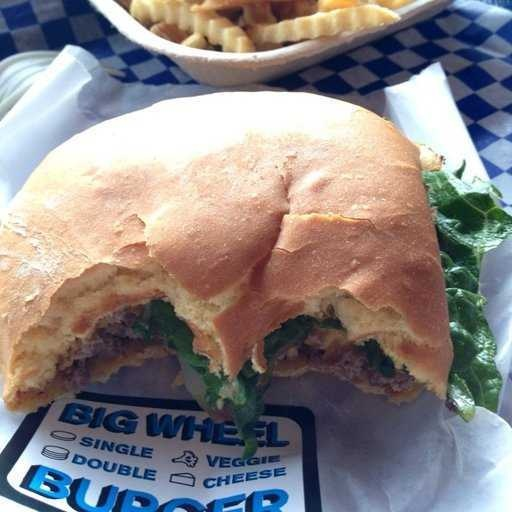hamburger: (1, 71, 461, 419)
